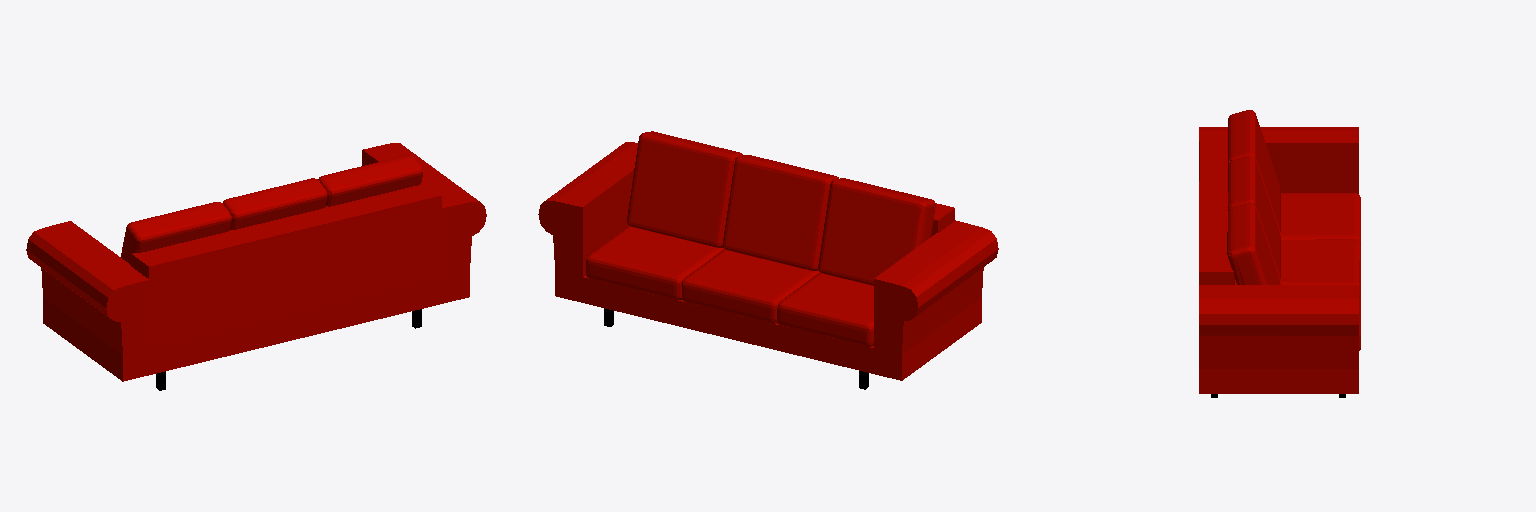
Rendered from Couch.obj.
3 renders of one model, left to right at view 1: azimuth 30°, elevation 25°; view 2: azimuth 150°, elevation 25°; view 3: azimuth 270°, elevation 25°, orthographic.
Parts seen in each view (by area): view 1: Box001; view 2: Box001; view 3: Box001.
Boxes of the visible parts, <box> form: Box001: <box>26,143,486,390</box>; Box001: <box>538,131,998,389</box>; Box001: <box>1199,110,1360,397</box>.
Size of the model in its own units: 2 by 0.7817 by 0.7418.